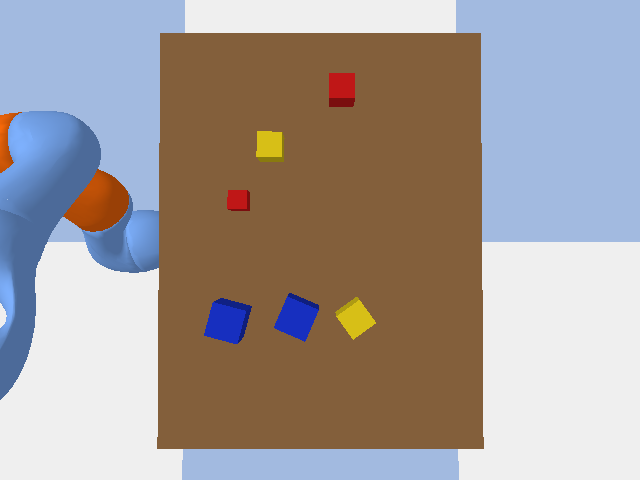blue_obj: (204, 298, 251, 343), (274, 293, 318, 341)
red_obj: (329, 73, 354, 106), (227, 190, 249, 210)
yellow_obj: (335, 297, 375, 339), (256, 131, 284, 161)
